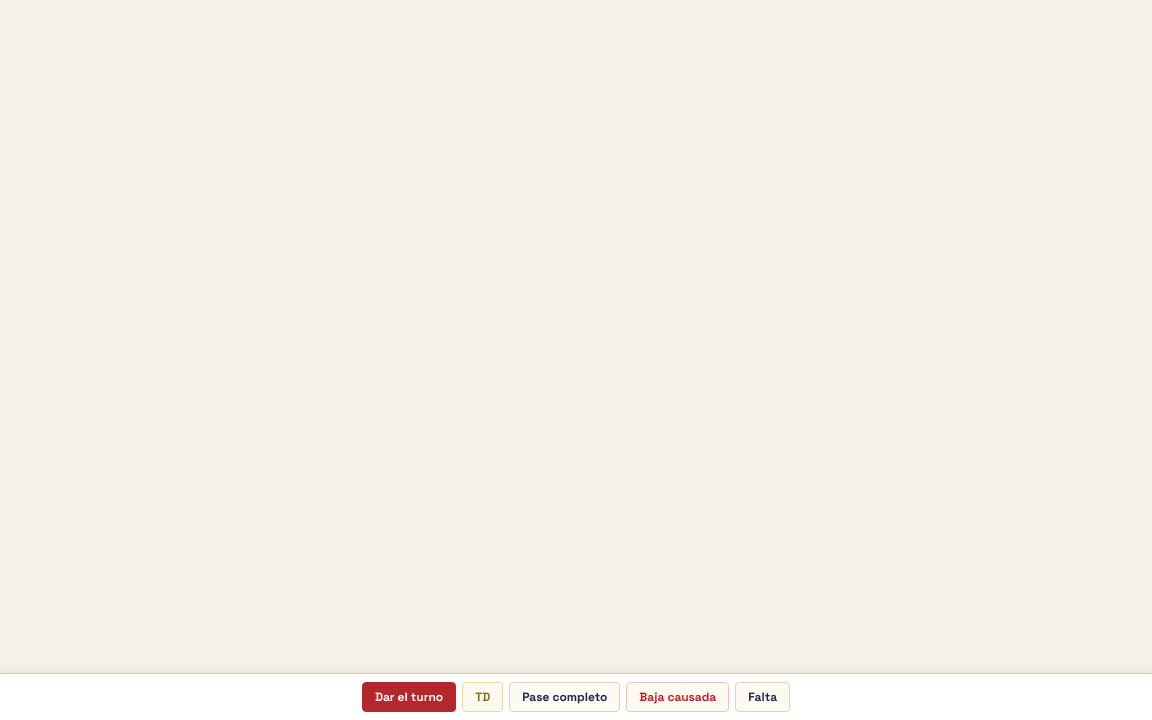
Test: LiveActionDock — two-touch TD / Pase (action → player) › records a Touchdown in two touches (the whole sheet closes)
Click the button with aria-label "Touchdown" at (483, 697), box [462,682,503,712]
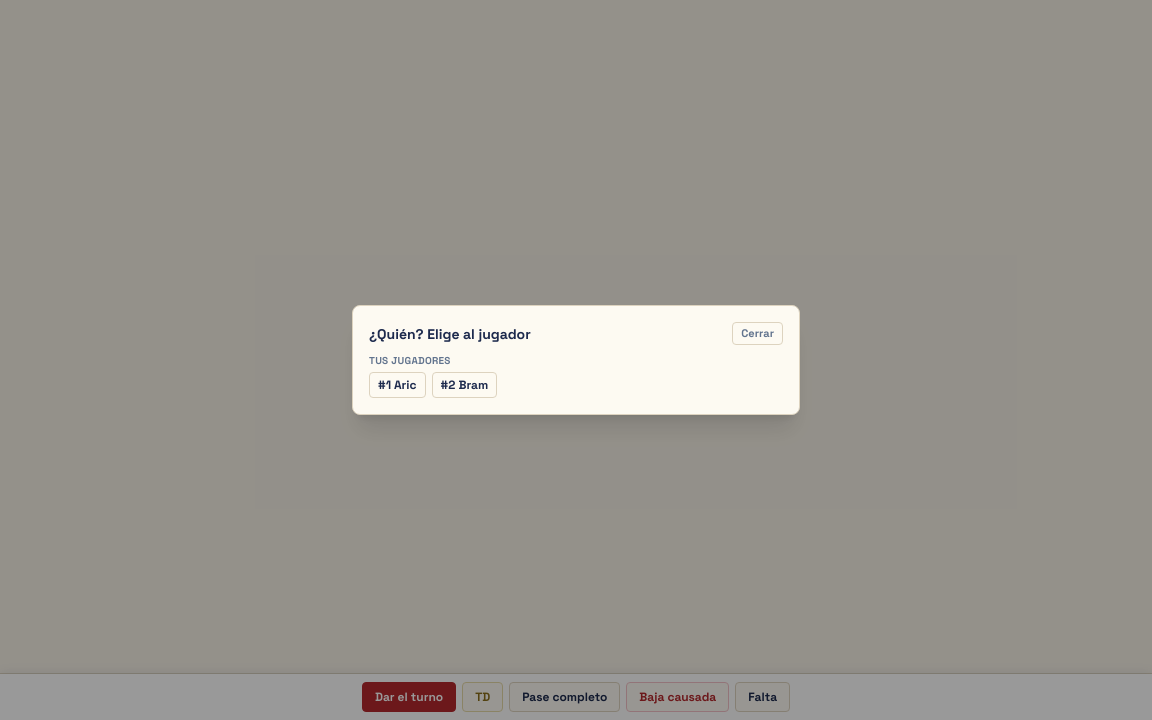
Click the button "#1 Aric" at (397, 385), box [369,372,426,398]
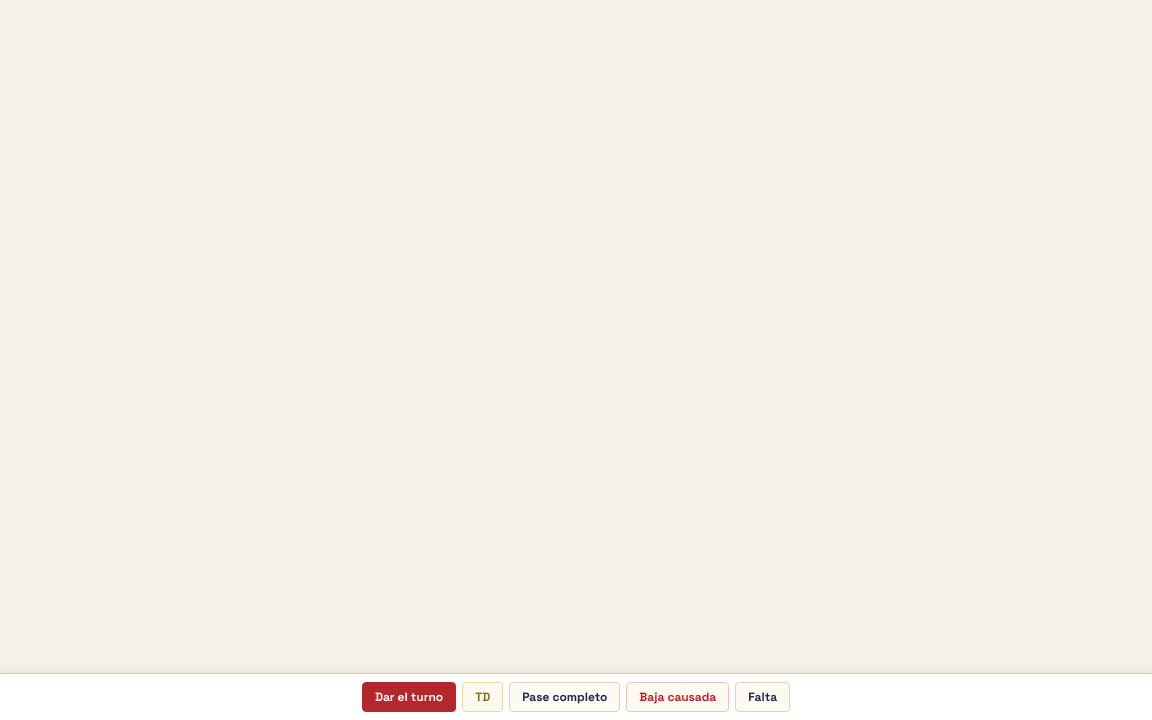
Now the element with test id "live-action-modal" is gone
